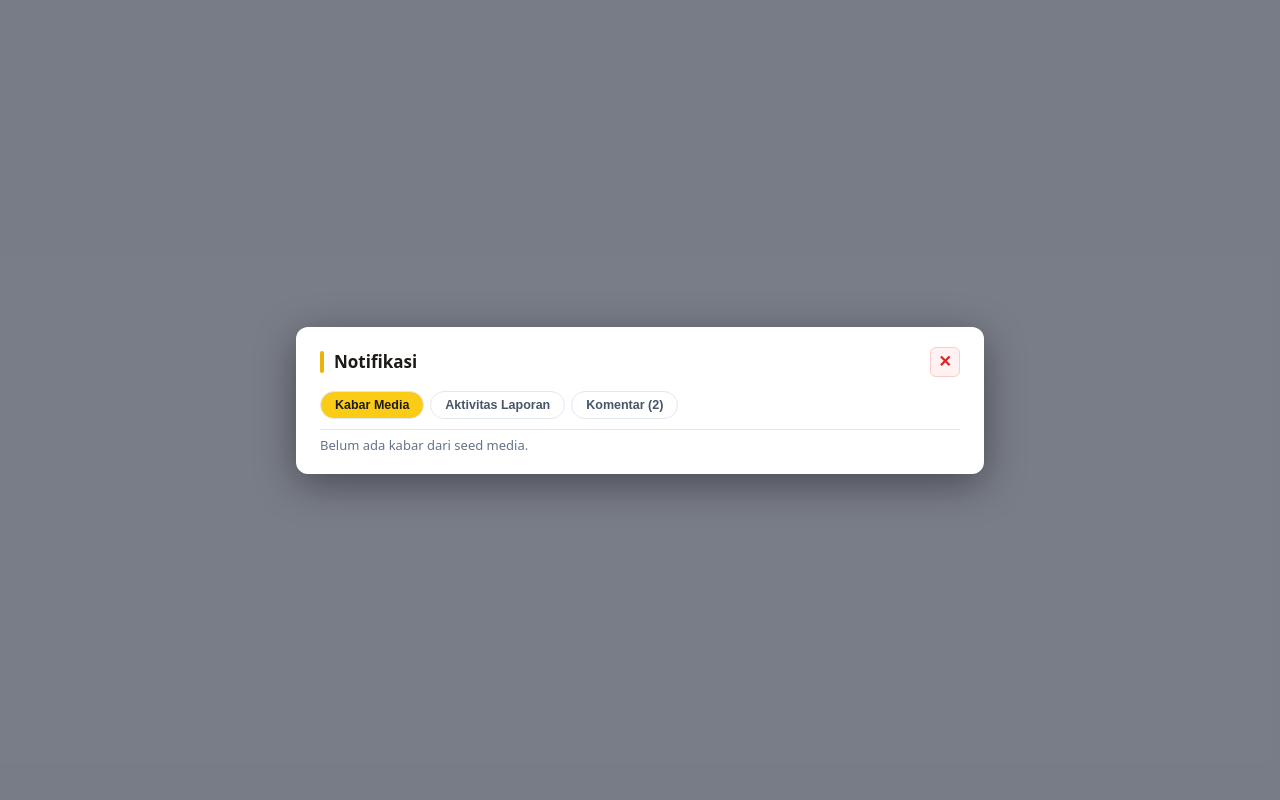
Test: NotifikasiModal: 3 tab (Kabar Media / Aktivitas Laporan / Komentar) › tab Komentar: ringkasan terurut dari komentar terbaru, bukan dari jumlah komentar
The width and height of the screenshot is (1280, 800).
expect the text "Belum ada kabar dari seed media." is shown: met, box left=320, top=436, right=528, bottom=454
Step 1. Click the button "Komentar (2)" → [625, 404], box left=571, top=390, right=678, bottom=418
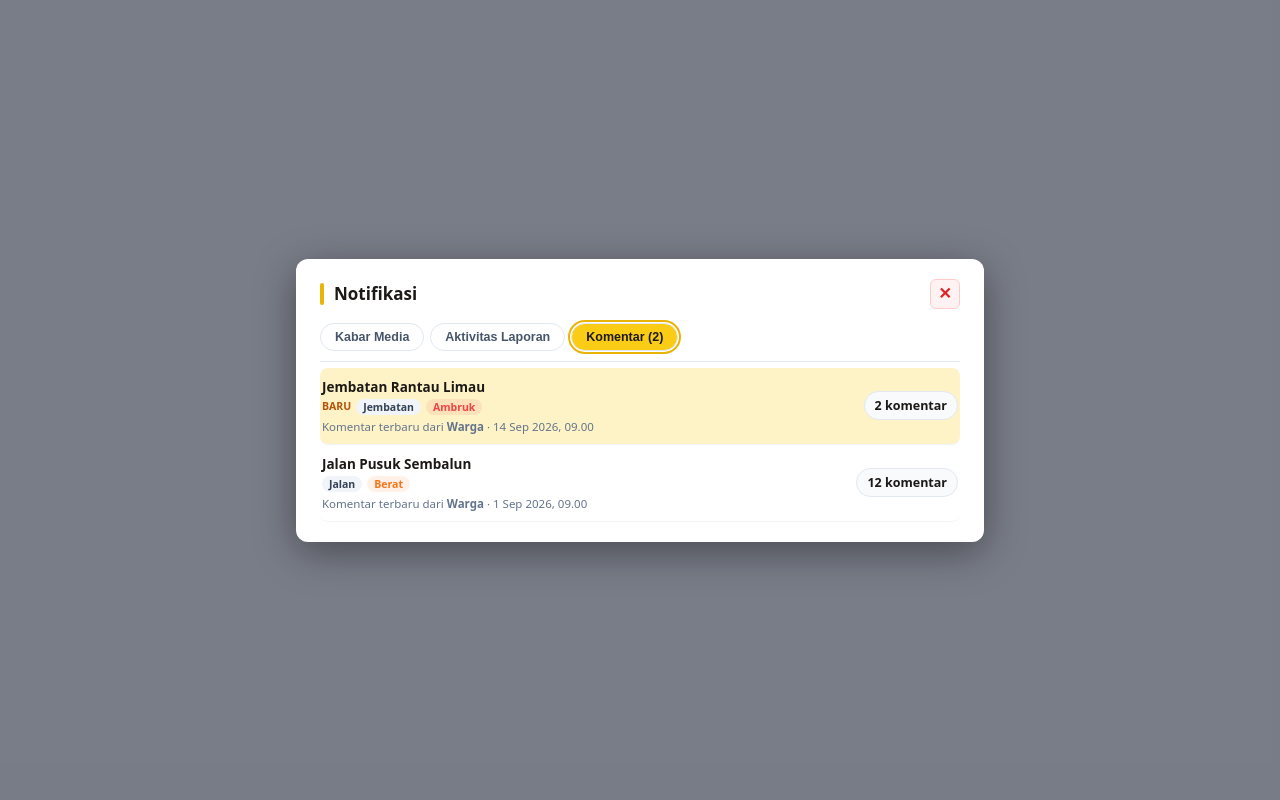
expect the button that starts with "Jembatan Rantau Limau" is shown: met, box left=320, top=368, right=960, bottom=444
expect the button that starts with "Jembatan Rantau Limau" shows "BARU": met, box left=320, top=368, right=960, bottom=444
expect the button that starts with "Jalan Pusuk Sembalun" is shown: met, box left=320, top=444, right=960, bottom=522
